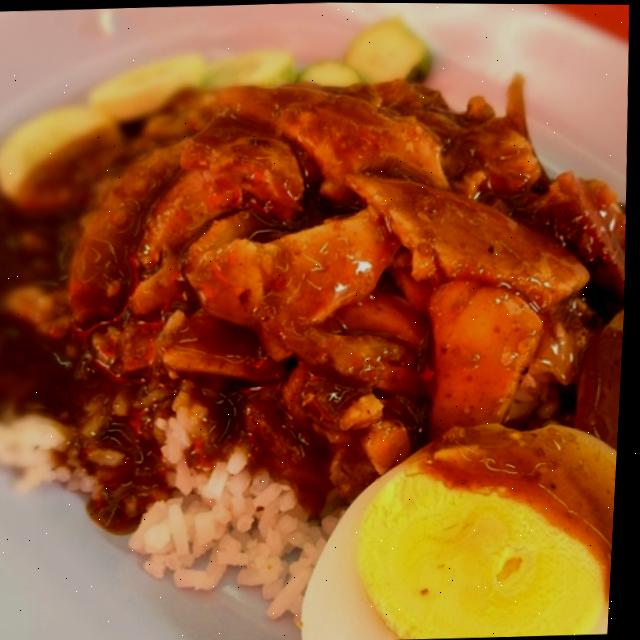猪肉菜式: (0, 35, 639, 640)
